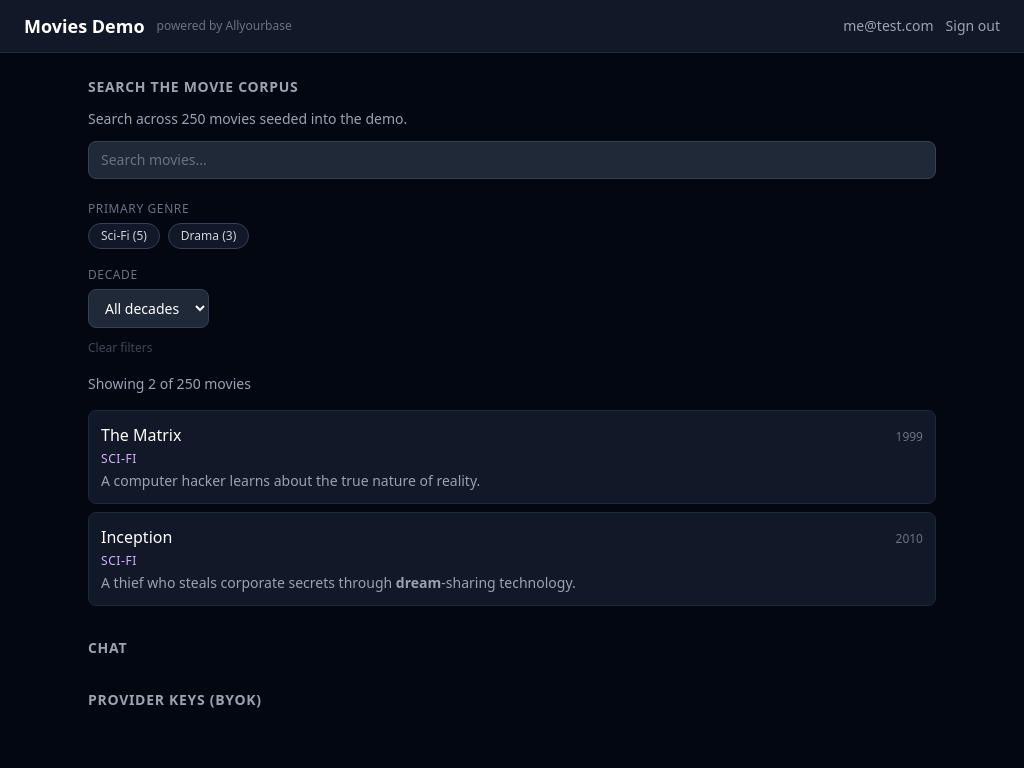
it: App search › shows no-results state when filters produce zero matches
The width and height of the screenshot is (1024, 768).
Expected: the heading "The Matrix" is shown, [101,423,181,447]
What coordinates should you click on to do the following:
click the button with test id "genre-facet-Sci-Fi"
I would click on:
 (124, 236)
Its box is [88,223,160,249].
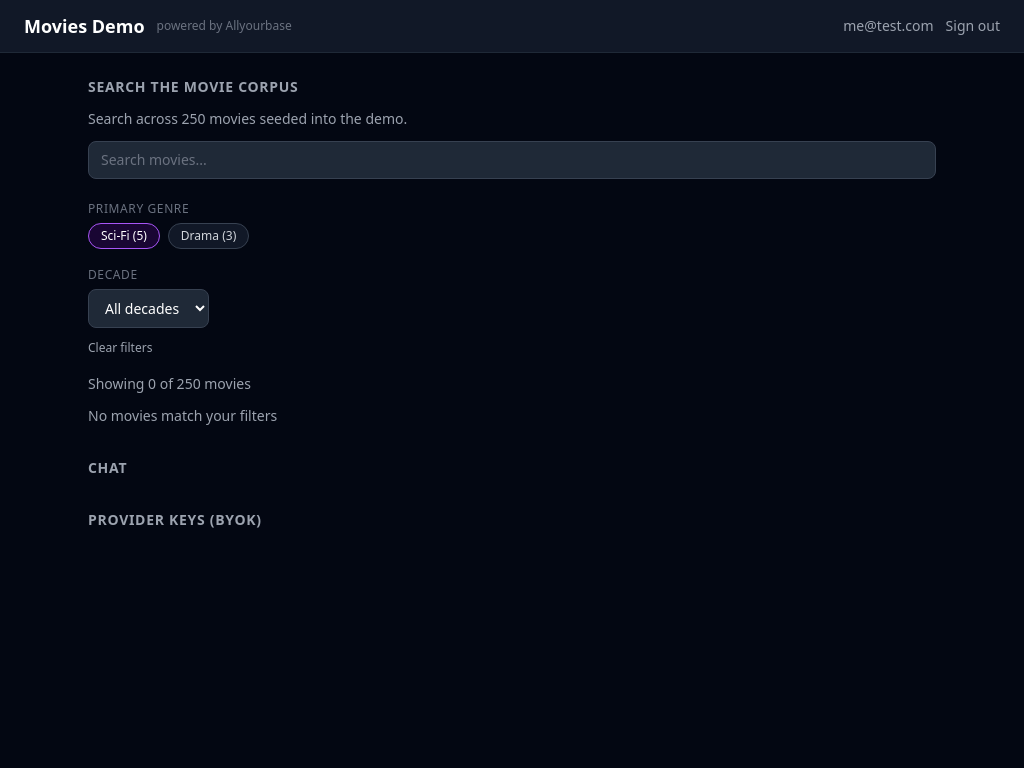
Expected: the text with test id "no-matches" reads "No movies match your filters", [88,406,277,425]
